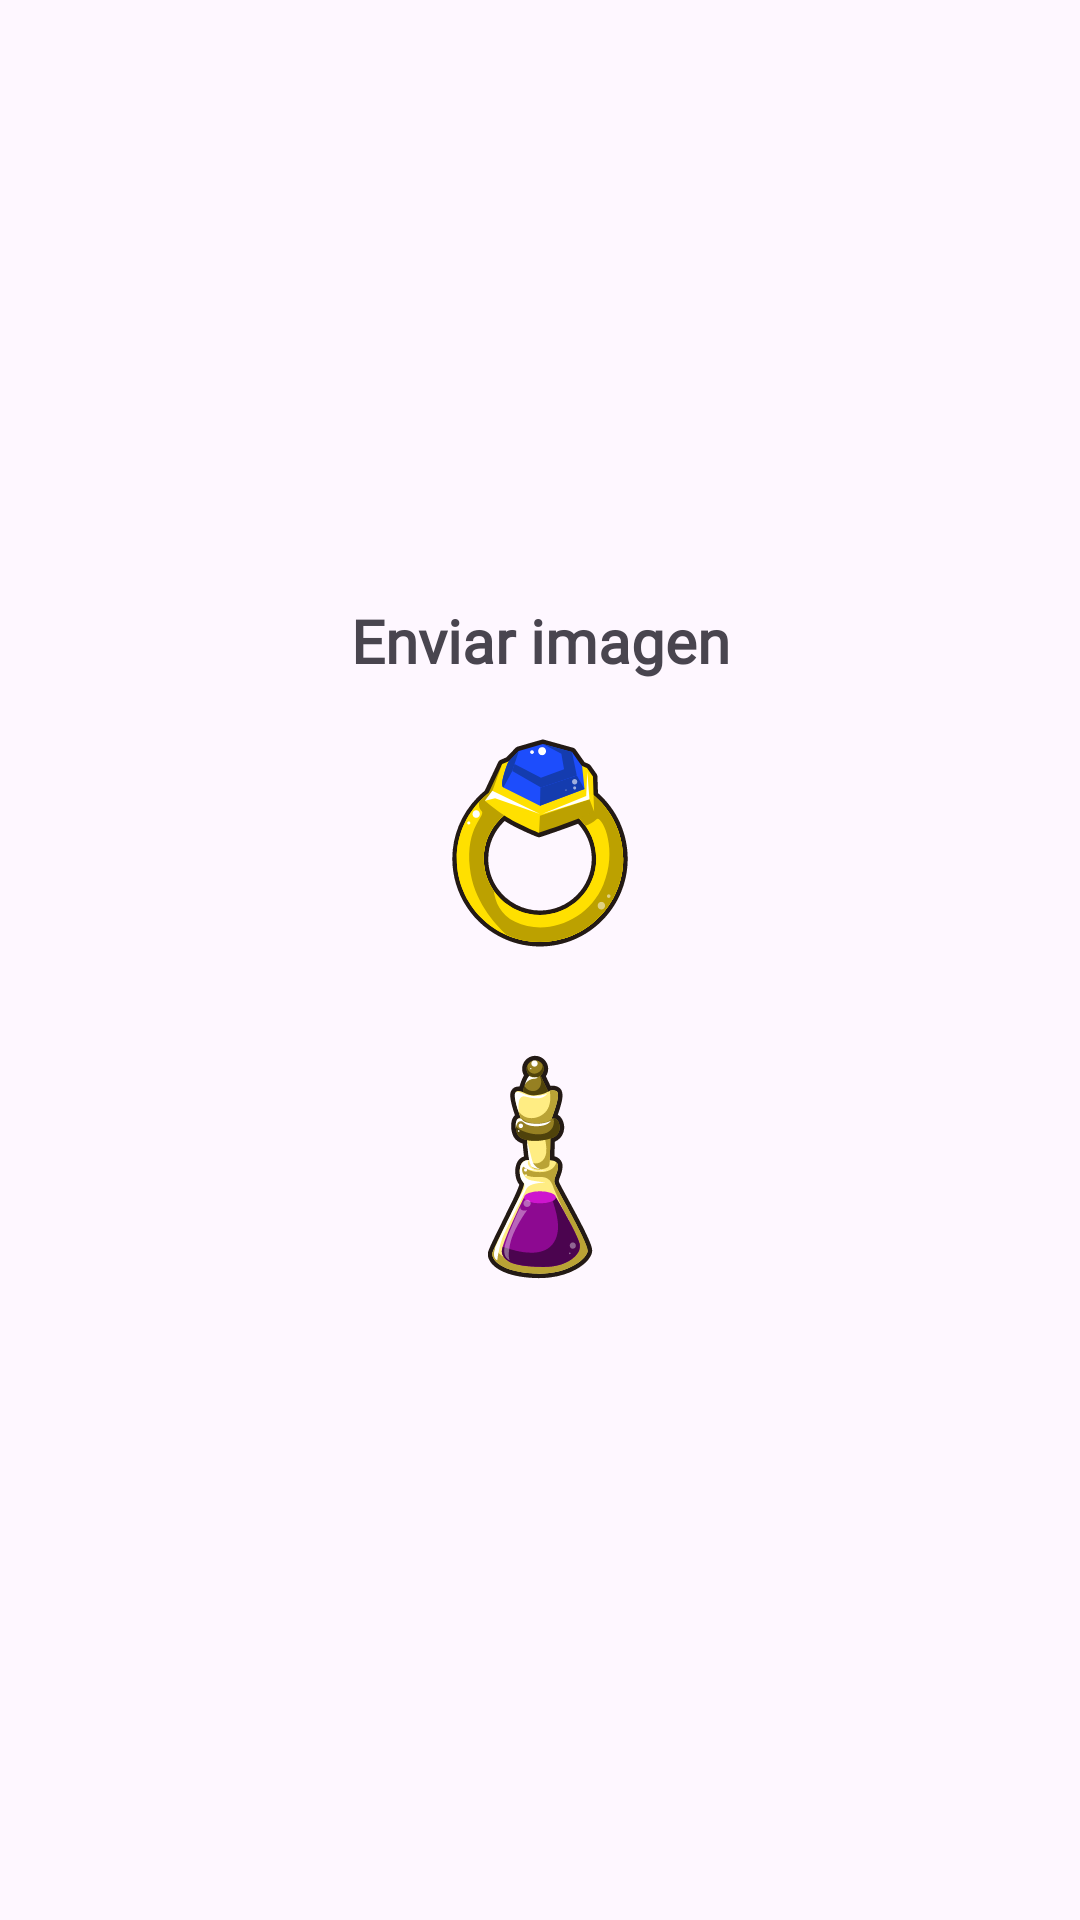

Named icons in this screenshot (1080 x 1920) and their bounding boxes, detection(x1, y1, x2, y2):
bote: detection(488, 1055, 593, 1279)
